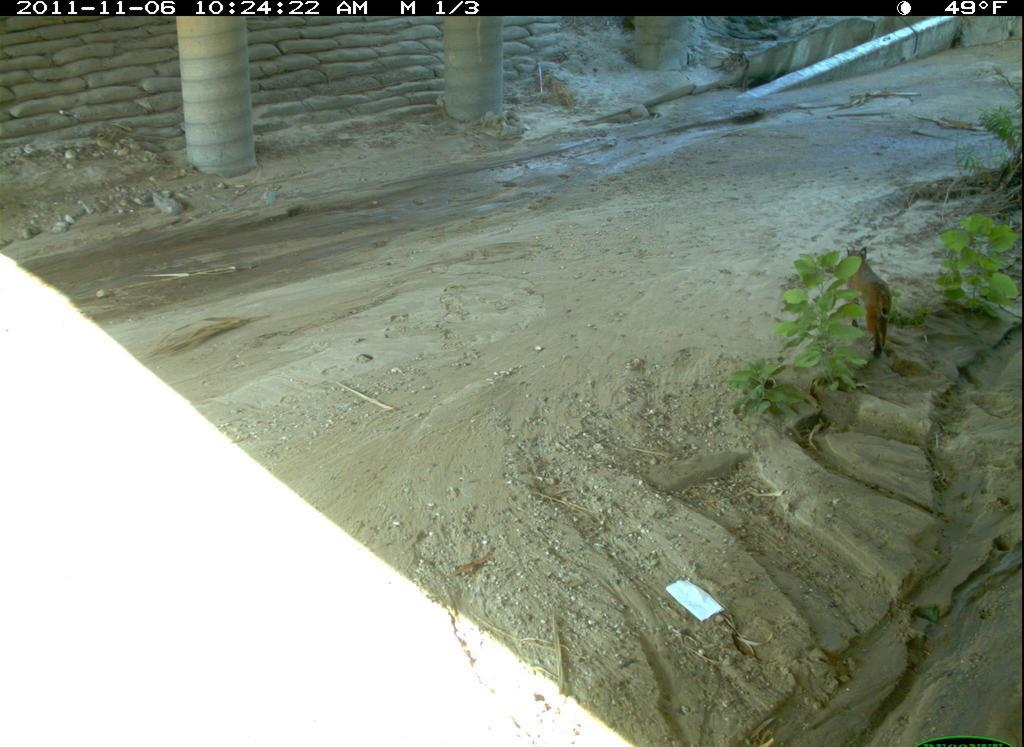bobcat: (818, 228, 930, 395)
